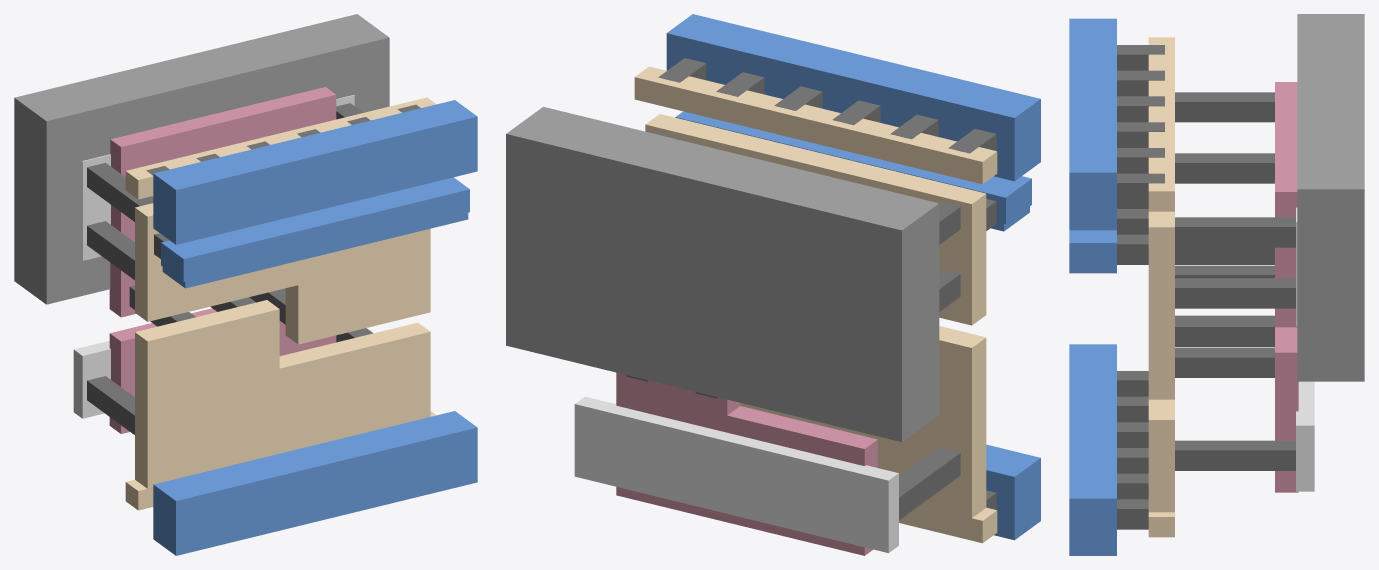
File: sky130_fd_sc_hd__lpflow_decapkapwr_6.gds.gltf
The picture shows the model from 3 angles, left to right: view 1: azimuth 30°, elevation 25°; view 2: azimuth 150°, elevation 25°; view 3: azimuth 270°, elevation 25°; orthographic projection. The views are drawn at different scales.
Visible parts, largest first — view 1: sky130_fd_sc_hd__lpflow_decapkapwr_6_met1, sky130_fd_sc_hd__lpflow_decapkapwr_6_li1, sky130_fd_sc_hd__lpflow_decapkapwr_6_nwell, sky130_fd_sc_hd__lpflow_decapkapwr_6_poly, sky130_fd_sc_hd__lpflow_decapkapwr_6_licon, sky130_fd_sc_hd__lpflow_decapkapwr_6_diff, sky130_fd_sc_hd__lpflow_decapkapwr_6_mcon; view 2: sky130_fd_sc_hd__lpflow_decapkapwr_6_nwell, sky130_fd_sc_hd__lpflow_decapkapwr_6_li1, sky130_fd_sc_hd__lpflow_decapkapwr_6_met1, sky130_fd_sc_hd__lpflow_decapkapwr_6_diff, sky130_fd_sc_hd__lpflow_decapkapwr_6_poly, sky130_fd_sc_hd__lpflow_decapkapwr_6_mcon, sky130_fd_sc_hd__lpflow_decapkapwr_6_licon; view 3: sky130_fd_sc_hd__lpflow_decapkapwr_6_licon, sky130_fd_sc_hd__lpflow_decapkapwr_6_nwell, sky130_fd_sc_hd__lpflow_decapkapwr_6_met1, sky130_fd_sc_hd__lpflow_decapkapwr_6_mcon, sky130_fd_sc_hd__lpflow_decapkapwr_6_li1, sky130_fd_sc_hd__lpflow_decapkapwr_6_poly, sky130_fd_sc_hd__lpflow_decapkapwr_6_diff.
Part boxes in pixels (x1,y1,x2,y2): sky130_fd_sc_hd__lpflow_decapkapwr_6_met1: [153, 100, 477, 555]; sky130_fd_sc_hd__lpflow_decapkapwr_6_li1: [125, 97, 436, 510]; sky130_fd_sc_hd__lpflow_decapkapwr_6_nwell: [14, 14, 389, 304]; sky130_fd_sc_hd__lpflow_decapkapwr_6_poly: [109, 87, 336, 433]; sky130_fd_sc_hd__lpflow_decapkapwr_6_licon: [87, 103, 372, 434]; sky130_fd_sc_hd__lpflow_decapkapwr_6_diff: [73, 95, 354, 418]; sky130_fd_sc_hd__lpflow_decapkapwr_6_mcon: [146, 104, 420, 258]; sky130_fd_sc_hd__lpflow_decapkapwr_6_nwell: [506, 106, 939, 441]; sky130_fd_sc_hd__lpflow_decapkapwr_6_li1: [634, 66, 997, 543]; sky130_fd_sc_hd__lpflow_decapkapwr_6_met1: [666, 14, 1040, 540]; sky130_fd_sc_hd__lpflow_decapkapwr_6_diff: [574, 396, 898, 553]; sky130_fd_sc_hd__lpflow_decapkapwr_6_poly: [616, 372, 877, 555]; sky130_fd_sc_hd__lpflow_decapkapwr_6_mcon: [658, 58, 996, 509]; sky130_fd_sc_hd__lpflow_decapkapwr_6_licon: [626, 132, 960, 520]; sky130_fd_sc_hd__lpflow_decapkapwr_6_licon: [1175, 92, 1295, 470]; sky130_fd_sc_hd__lpflow_decapkapwr_6_nwell: [1297, 14, 1364, 381]; sky130_fd_sc_hd__lpflow_decapkapwr_6_met1: [1069, 18, 1116, 555]; sky130_fd_sc_hd__lpflow_decapkapwr_6_mcon: [1117, 45, 1164, 529]; sky130_fd_sc_hd__lpflow_decapkapwr_6_li1: [1148, 37, 1174, 537]; sky130_fd_sc_hd__lpflow_decapkapwr_6_poly: [1275, 82, 1298, 492]; sky130_fd_sc_hd__lpflow_decapkapwr_6_diff: [1296, 207, 1314, 491].
Bounding box in the file's own units: 3.14 × 3.2 × 2.24.
